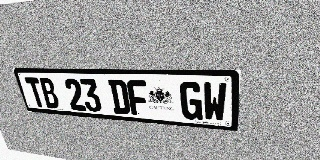2: (63, 78, 86, 111)
3: (79, 79, 102, 112)
B: (38, 78, 61, 109)
D: (108, 79, 131, 115)
F: (126, 80, 149, 116)
G: (179, 81, 202, 120)
T: (24, 77, 47, 108)
W: (203, 82, 227, 122)
